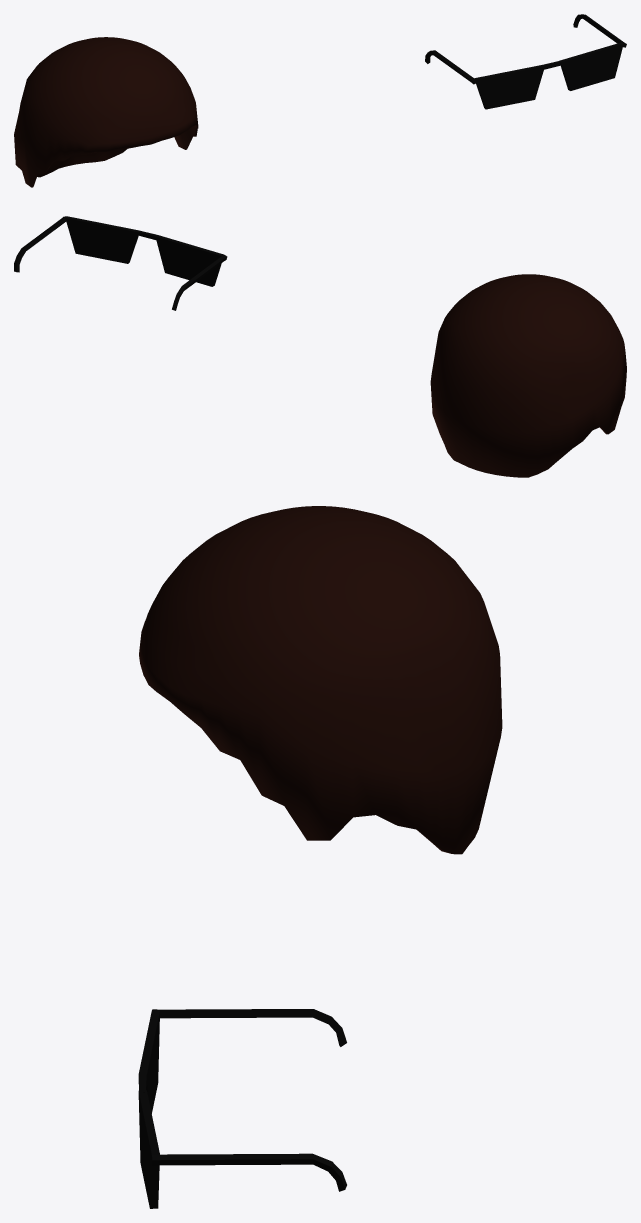
Rendered from pelo_marioluis.fbx.
3 views of the same model, one above another, from view 1: azimuth 30°, elevation 25°; view 2: azimuth 150°, elevation 25°; view 3: azimuth 270°, elevation 25° (orthographic). The views are drawn at different scales.
Visible parts, largest first — view 1: Sphere, Cube, Cube.001; view 2: Sphere, Cube.001, Cube; view 3: Sphere, Cube.001, Cube.
Part boxes in pixels (<box>): Sphere: <box>14,37,198,187</box>; Cube: <box>425,50,563,109</box>; Cube.001: <box>559,14,626,90</box>; Sphere: <box>430,274,626,477</box>; Cube.001: <box>14,216,138,272</box>; Cube: <box>136,230,227,310</box>; Sphere: <box>139,506,502,854</box>; Cube.001: <box>138,1090,346,1208</box>; Cube: <box>138,1009,346,1113</box>.
Size of the model in its own units: 144 by 36.42 by 40.55.
